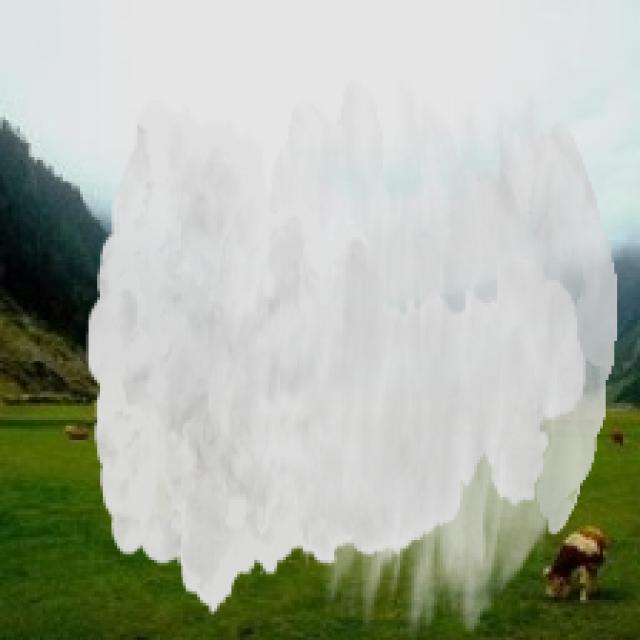Smoke: (85, 80, 618, 637)
